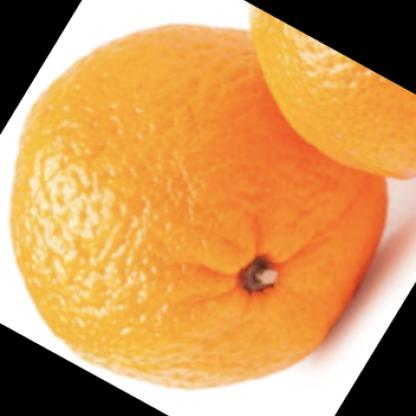fresh: (11, 22, 389, 393)
